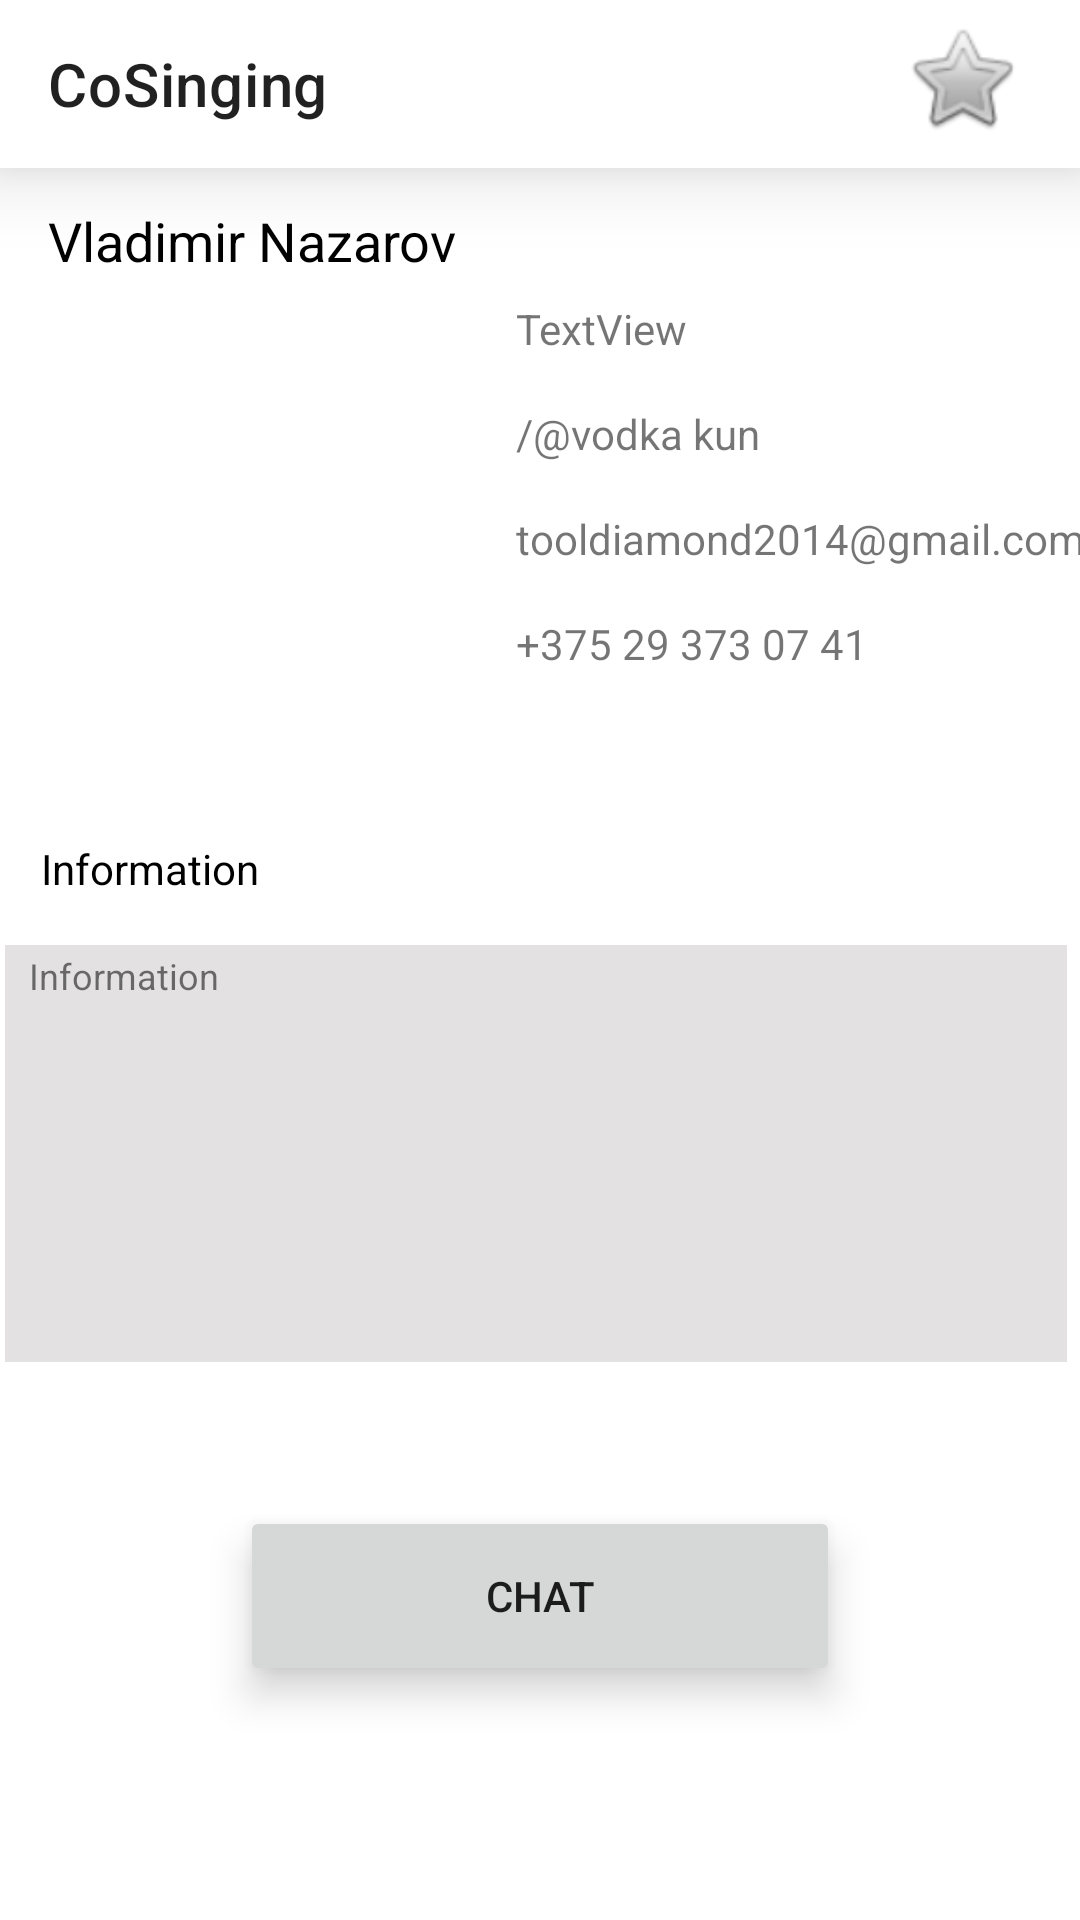

Icon bounding boxes for this 1080*1920 phone screenshot, format box=[x1, y1, x2, y2]:
star off: box=[913, 30, 1013, 128]
